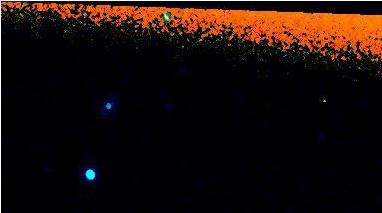star: (314, 83, 344, 113)
